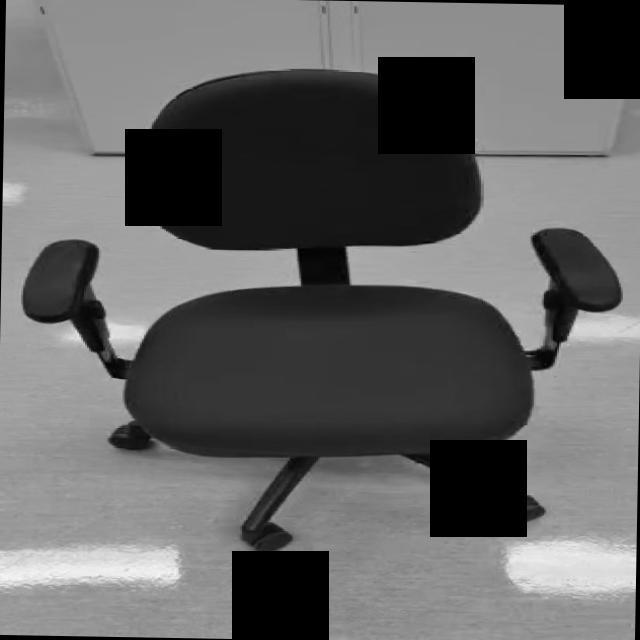chair: (18, 64, 624, 558)
